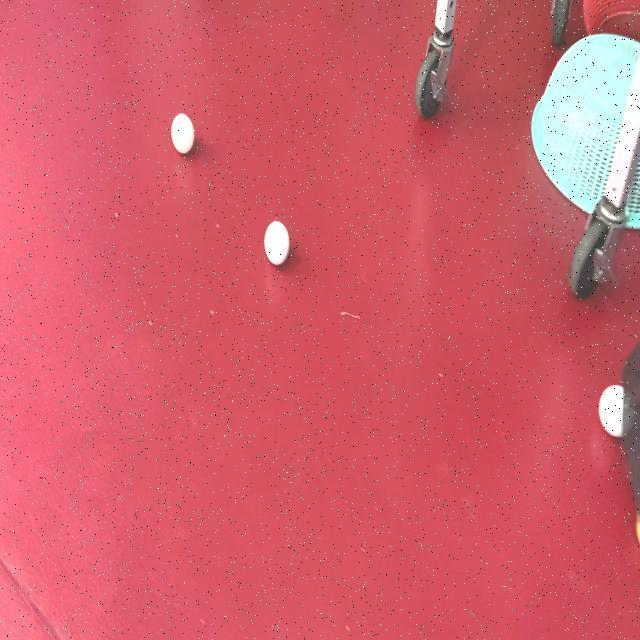ping-pong-ball: (598, 382, 636, 438), (264, 218, 290, 266), (170, 112, 196, 156)
